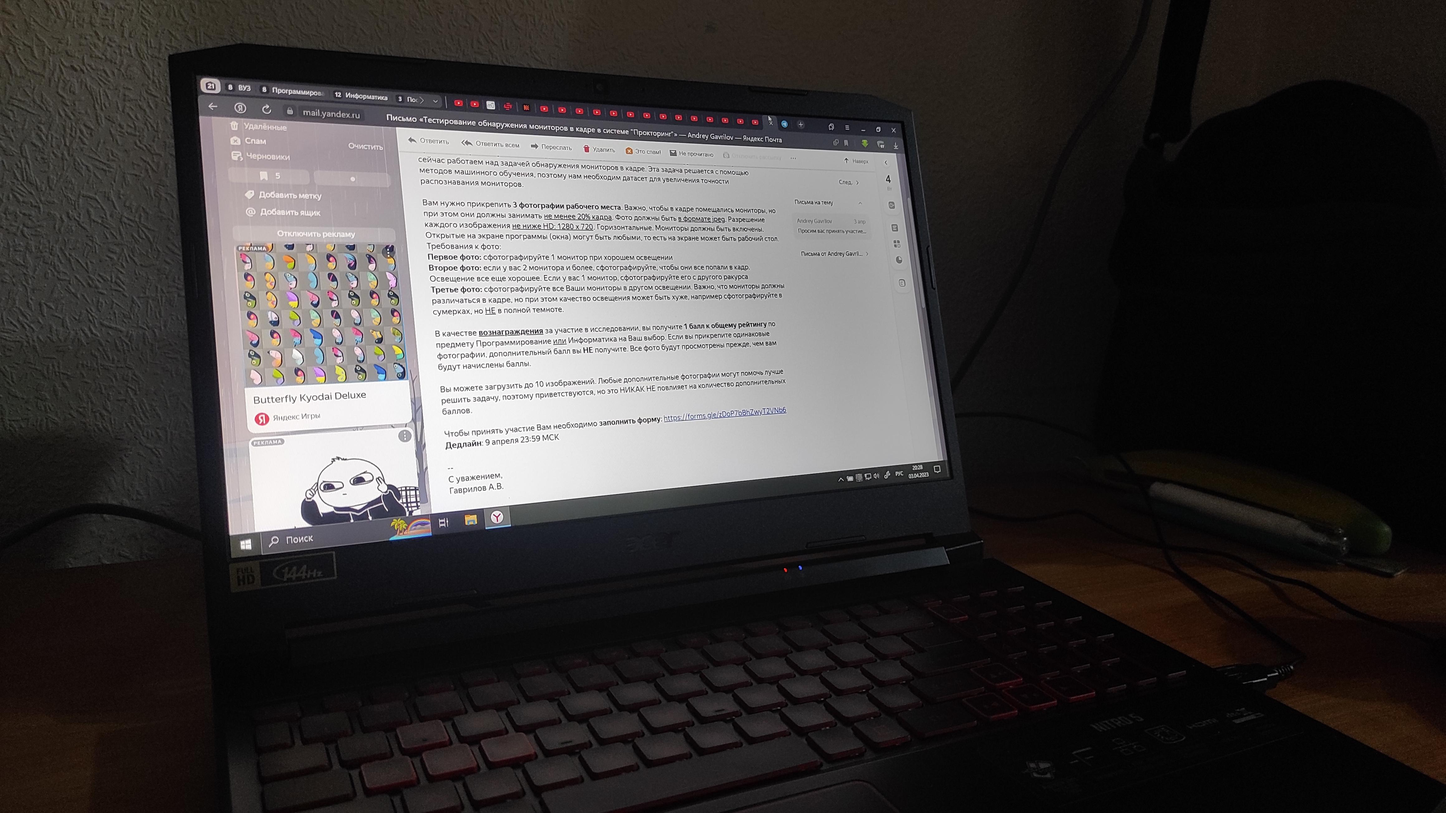monitor: (145, 30, 989, 656)
